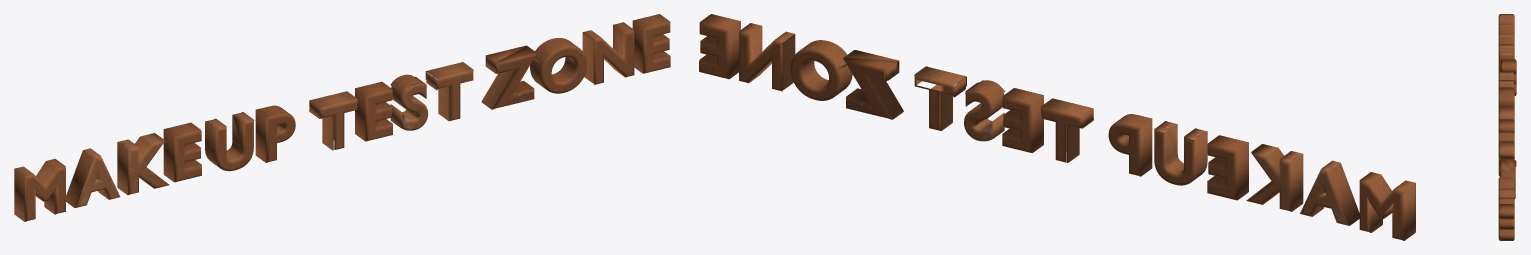
File: letters.gltf
3 views of the same model, side by side, from view 1: azimuth 30°, elevation 25°; view 2: azimuth 150°, elevation 25°; view 3: azimuth 270°, elevation 25° (orthographic). The views are drawn at different scales.
Parts seen in each view (by area): view 1: Text_2.011, Text_2.005, Text_2.009, Text_2.010, Text_2.003, Text_2.007, Text_2.002, Text_2.018; view 2: Text_2.011, Text_2.005, Text_2.009, Text_2.010, Text_2.003, Text_2.007, Text_2.002, Text_2.018, Text_2.006; view 3: Text_2.011, Text_2.005, Text_2.003, Text_2.009, Text_2.010, Text_2.002, Text_2.006, Text_2.015, Text_2.007, Text_2.014.
Part boxes in pixels (<box>): Text_2.011: <box>14,105,295,221</box>; Text_2.005: <box>481,22,634,109</box>; Text_2.009: <box>309,42,594,149</box>; Text_2.010: <box>163,122,201,182</box>; Text_2.003: <box>632,14,670,73</box>; Text_2.007: <box>425,71,473,121</box>; Text_2.002: <box>426,62,473,80</box>; Text_2.018: <box>322,115,333,150</box>; Text_2.011: <box>1108,114,1415,240</box>; Text_2.005: <box>739,23,903,119</box>; Text_2.009: <box>782,45,1093,162</box>; Text_2.010: <box>1207,135,1248,200</box>; Text_2.003: <box>699,14,740,79</box>; Text_2.007: <box>914,76,966,130</box>; Text_2.002: <box>914,66,965,86</box>; Text_2.018: <box>1067,125,1079,162</box>; Text_2.006: <box>965,80,1004,100</box>; Text_2.011: <box>1498,14,1514,107</box>; Text_2.005: <box>1498,159,1515,205</box>; Text_2.003: <box>1498,204,1514,240</box>; Text_2.009: <box>1498,106,1514,142</box>; Text_2.010: <box>1500,59,1516,95</box>; Text_2.002: <box>1499,141,1514,152</box>; Text_2.006: <box>1499,132,1513,140</box>; Text_2.015: <box>1499,152,1514,158</box>; Text_2.007: <box>1498,143,1514,175</box>; Text_2.014: <box>1499,80,1513,83</box>.
Bounding box in the file's own units: 11.57 × 2.07 × 1.8.
19 materials, 19 textured.
